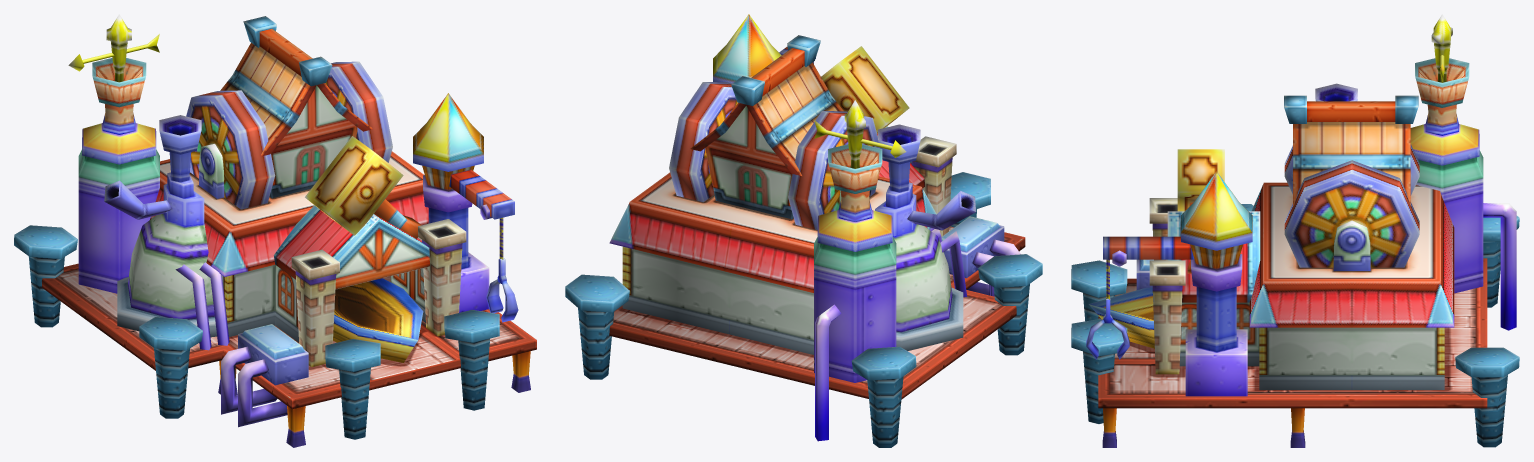
The model's file is zcc.FBX.
3 renders of one model, left to right at view 1: azimuth 30°, elevation 25°; view 2: azimuth 150°, elevation 25°; view 3: azimuth 270°, elevation 25°, orthographic.
Visible parts, largest first — view 1: zcc, zcc_06, zcc_07; view 2: zcc, zcc_06, zcc_07; view 3: zcc, zcc_07, zcc_06.
Part boxes in pixels (x1,y1,x2,y2): zcc: (14,16,536,447); zcc_06: (68,14,159,293); zcc_07: (413,93,518,322); zcc: (565,35,1042,447); zcc_06: (814,100,906,441); zcc_07: (713,14,815,83); zcc: (1071,83,1519,447); zcc_07: (1086,171,1252,396); zcc_06: (1410,14,1516,330).
Size of the model in its own units: 147 by 132 by 171.
